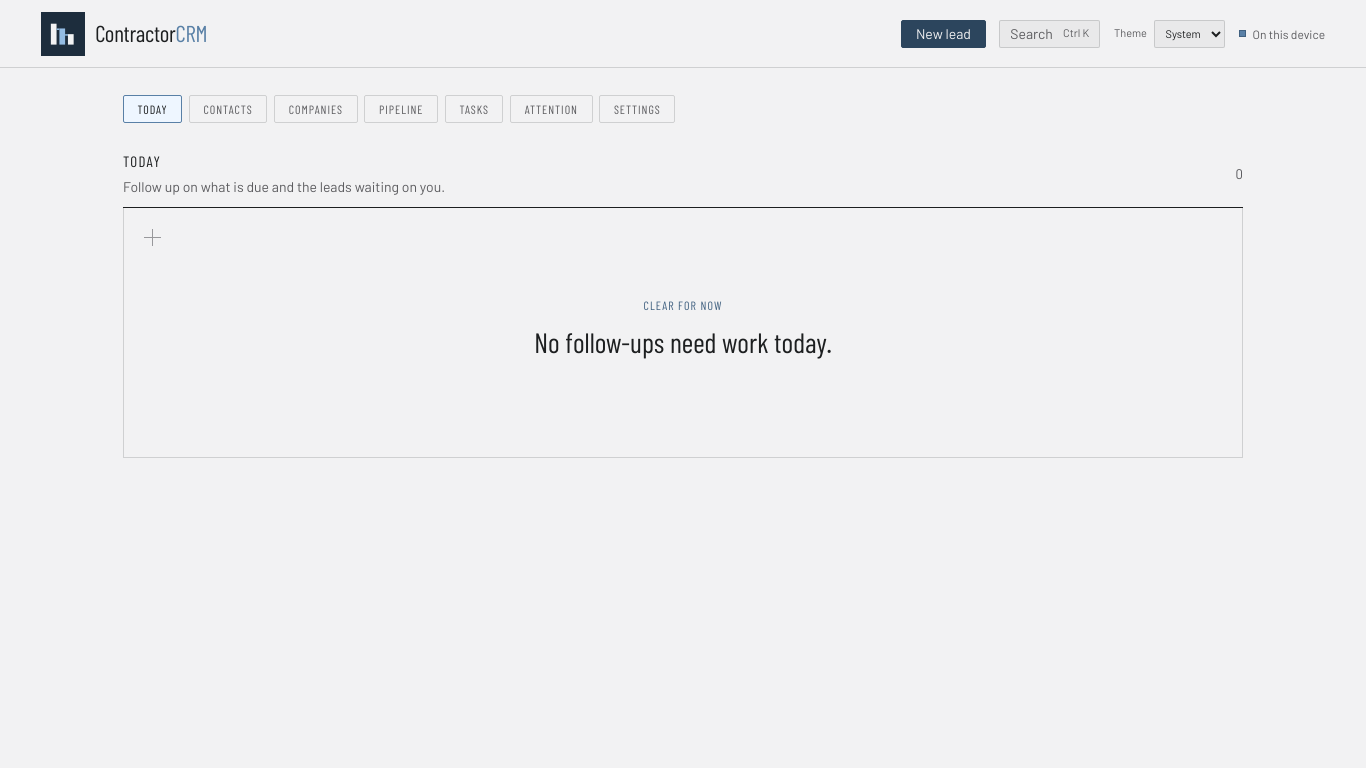
Test case: hand-off panel › renders not-linked placeholders for both references
Click the button "Pipeline" at (401, 109), box [364,95,438,123]
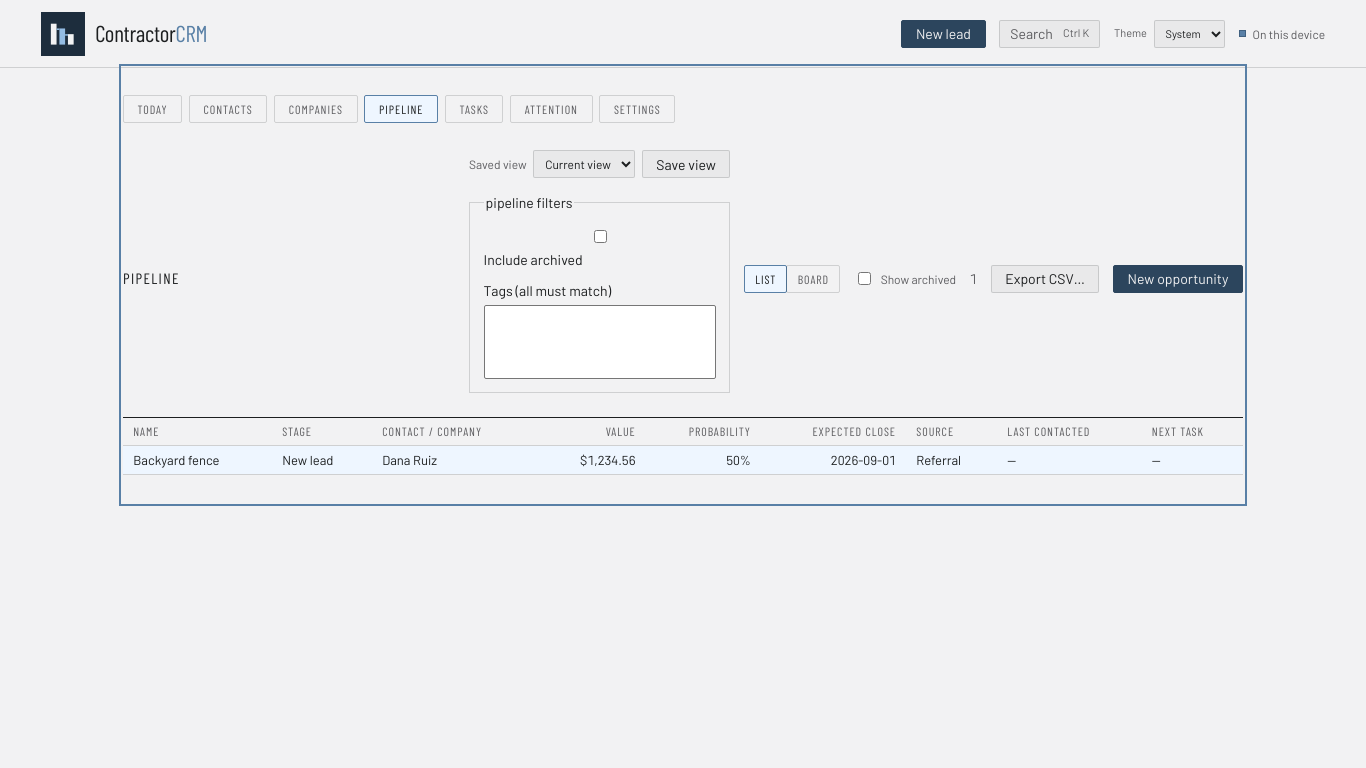
Click the text "Backyard fence" at (176, 460), box [133,452,220,468]
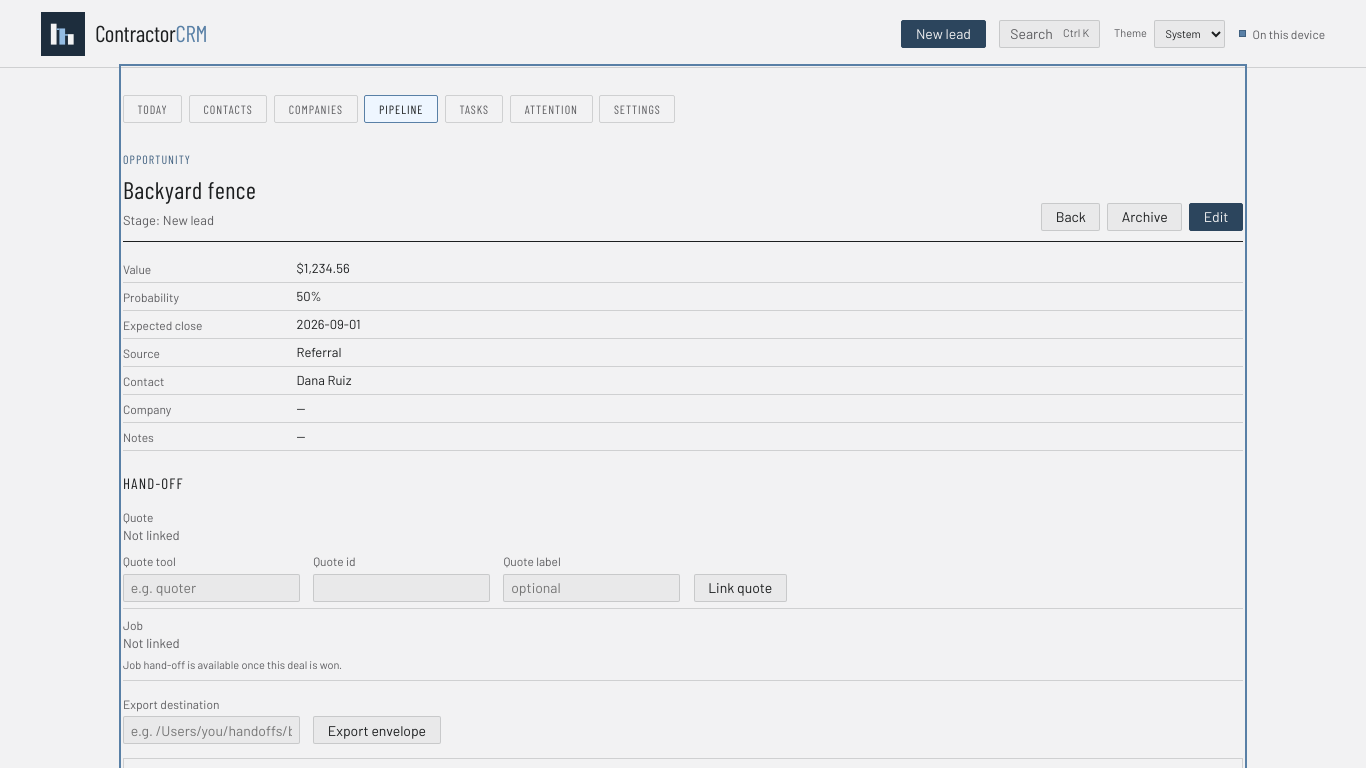
Expected: the heading "Backyard fence" is shown, [123,172,256,208]
Expected: the heading "Hand-off" is shown, [123,474,184,492]
Expected: the text "Not linked" is shown 2 times, [123,527,180,543]; [123,635,180,651]
